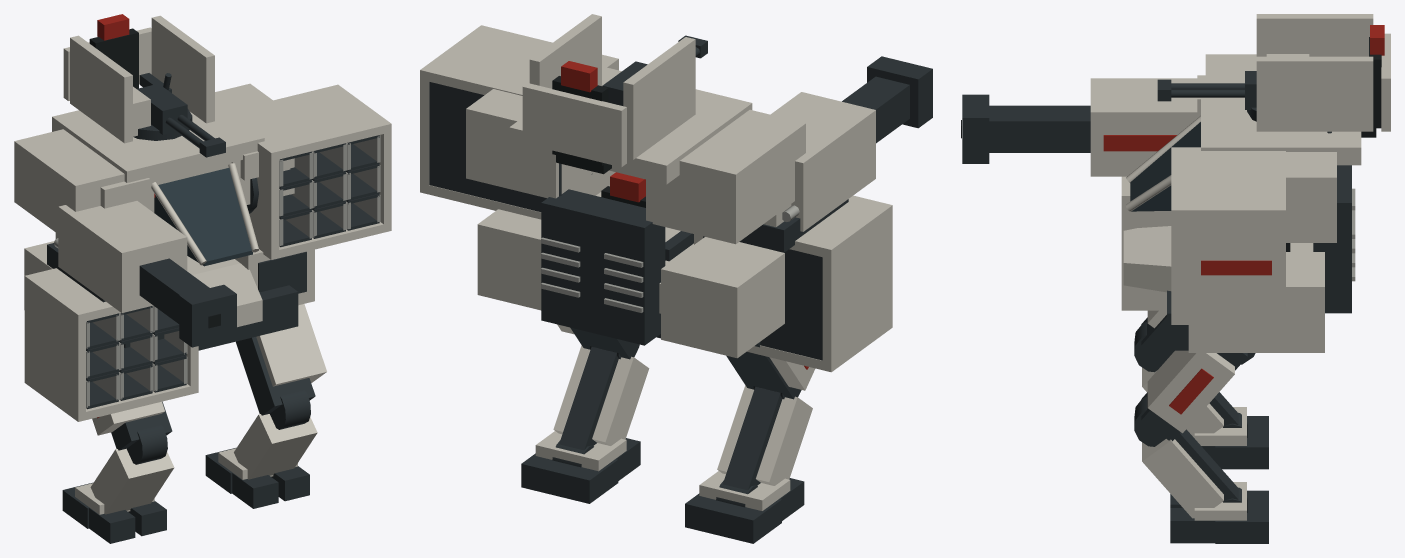
3 views of the same model, side by side, from view 1: azimuth 30°, elevation 25°; view 2: azimuth 150°, elevation 25°; view 3: azimuth 270°, elevation 25° (orthographic). The views are drawn at different scales.
Parts seen in each view (by area): view 1: mech-torso-painted, mech-silo-right-painted, mech-silo-left-lower-painted, mech-cannon-recoil-painted, mech-mg-yaw-roof-painted, mech-hip-1-painted, mech-knee-1-painted, mech-knee-0-painted, mech-ankle-0-painted, mech-ankle-1-painted, mech-mg-pitch-roof-painted, mech-seat-gunner-painted (+2 smaller); view 2: mech-torso-painted, mech-silo-left-lower-painted, mech-mg-yaw-roof-painted, mech-silo-right-painted, mech-cannon-recoil-painted, mech-knee-1-painted, mech-knee-0-painted, mech-ankle-0-painted, mech-ankle-1-painted, mech-hip-0-painted, mech-seat-gunner-painted, mech-seat-pilot-painted (+3 smaller); view 3: mech-torso-painted, mech-silo-right-painted, mech-cannon-recoil-painted, mech-mg-yaw-roof-painted, mech-hip-1-painted, mech-knee-1-painted, mech-ankle-1-painted, mech-ankle-0-painted, mech-silo-left-lower-painted, mech-knee-0-painted, mech-mg-pitch-roof-painted, mech-seat-gunner-painted (+1 smaller).
Boxes of the visible parts, bbox=[...] form: mech-torso-painted: bbox=[14, 83, 314, 350]; mech-silo-right-painted: bbox=[228, 84, 391, 259]; mech-silo-left-lower-painted: bbox=[24, 268, 198, 421]; mech-cannon-recoil-painted: bbox=[55, 201, 236, 347]; mech-mg-yaw-roof-painted: bbox=[63, 15, 214, 143]; mech-hip-1-painted: bbox=[236, 304, 326, 415]; mech-knee-1-painted: bbox=[234, 390, 317, 479]; mech-knee-0-painted: bbox=[90, 425, 174, 514]; mech-ankle-0-painted: bbox=[62, 482, 166, 543]; mech-ankle-1-painted: bbox=[205, 447, 309, 508]; mech-mg-pitch-roof-painted: bbox=[133, 83, 225, 157]; mech-seat-gunner-painted: bbox=[89, 14, 171, 92]; mech-torso-painted: bbox=[466, 66, 805, 358]; mech-silo-left-lower-painted: bbox=[694, 195, 892, 372]; mech-mg-yaw-roof-painted: bbox=[522, 14, 695, 167]; mech-silo-right-painted: bbox=[420, 25, 618, 219]; mech-cannon-recoil-painted: bbox=[763, 56, 932, 231]; mech-knee-1-painted: bbox=[553, 344, 649, 450]; mech-knee-0-painted: bbox=[717, 385, 812, 490]; mech-ankle-0-painted: bbox=[685, 471, 804, 543]; mech-ankle-1-painted: bbox=[521, 431, 640, 503]; mech-hip-0-painted: bbox=[726, 342, 815, 399]; mech-seat-gunner-painted: bbox=[552, 61, 611, 174]; mech-seat-pilot-painted: bbox=[601, 172, 693, 261]; mech-torso-painted: bbox=[1123, 54, 1361, 352]; mech-silo-right-painted: bbox=[1171, 147, 1285, 324]; mech-cannon-recoil-painted: bbox=[961, 78, 1197, 176]; mech-mg-yaw-roof-painted: bbox=[1247, 14, 1390, 131]; mech-hip-1-painted: bbox=[1141, 350, 1255, 441]; mech-knee-1-painted: bbox=[1134, 397, 1238, 518]; mech-ankle-1-painted: bbox=[1170, 482, 1268, 543]; mech-ankle-0-painted: bbox=[1194, 407, 1268, 469]; mech-silo-left-lower-painted: bbox=[1121, 176, 1171, 310]; mech-knee-0-painted: bbox=[1134, 322, 1238, 437]; mech-mg-pitch-roof-painted: bbox=[1157, 54, 1309, 109]; mech-seat-gunner-painted: bbox=[1361, 25, 1384, 137].
Bounding box in the file's own units: 25.14 × 30.53 × 25.88.
